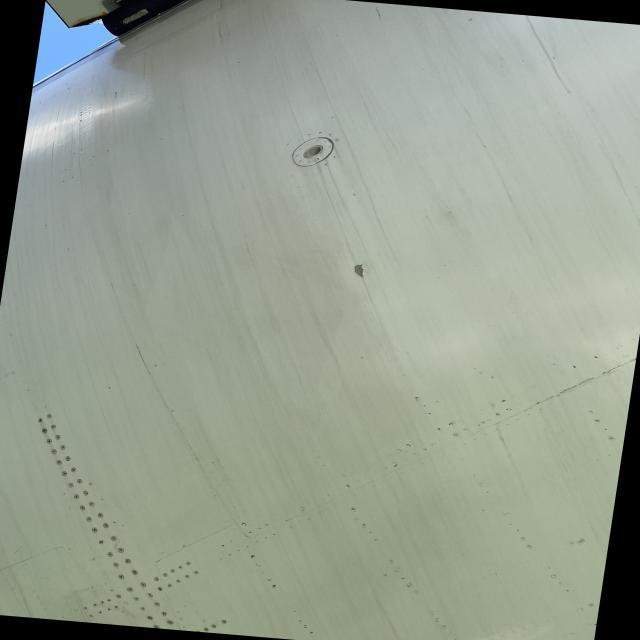crack: (127, 343, 168, 366), (354, 262, 369, 287)
